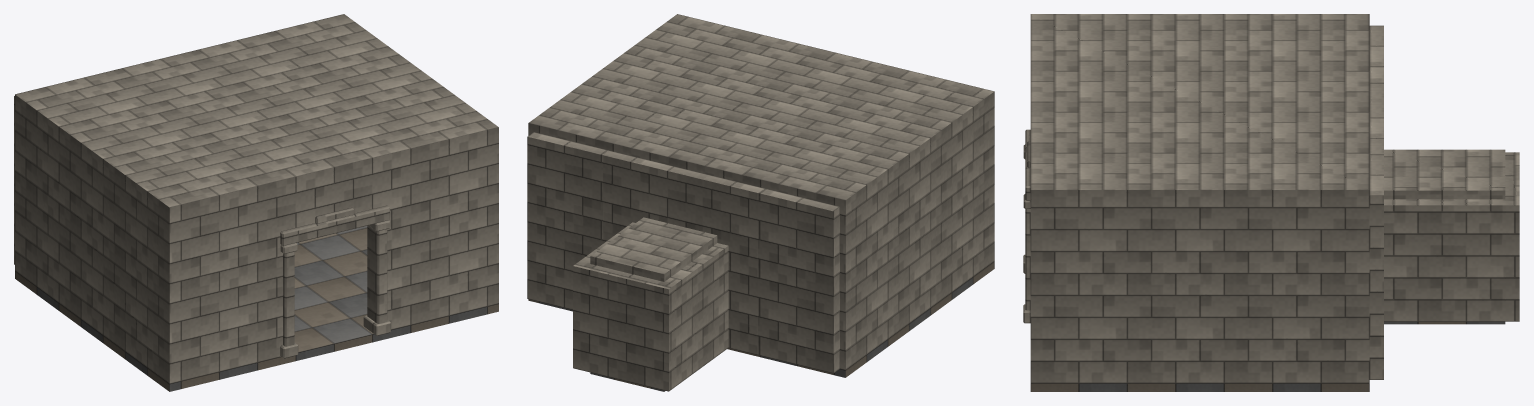
File: MOD_RoomChoise1.fbx
3 views of the same model, side by side, from view 1: azimuth 30°, elevation 25°; view 2: azimuth 150°, elevation 25°; view 3: azimuth 270°, elevation 25° (orthographic). The views are drawn at different scales.
Visible parts, largest first — view 1: Ceiling.004, Wall_Side.004, Wall_S.003, Wall_S.002, Floor.004, Portal_Frame.004, Portal_Head.004, Portal_Side_L.004, Wall_Side.005, Portal_Side_R.004; view 2: Ceiling.004, Wall_Side.004, Stub, Wall_N_L.001, Wall_N_R.001, Wall_N_Pier, Wall_N_Pier.001, Wall_N_Head, Floor.004; view 3: Ceiling.004, Wall_Side.005, Stub, Wall_N_R.001, Floor.004, Portal_Frame.004, Wall_N_L.001, Wall_N_Pier, Wall_N_Pier.001.
Part boxes in pixels (bbox=[...]): Ceiling.004: bbox=[15, 14, 498, 215]; Wall_Side.004: bbox=[15, 102, 180, 383]; Wall_S.003: bbox=[395, 138, 487, 328]; Wall_S.002: bbox=[181, 190, 272, 380]; Floor.004: bbox=[15, 226, 498, 391]; Portal_Frame.004: bbox=[280, 205, 390, 358]; Portal_Head.004: bbox=[292, 165, 376, 228]; Portal_Side_L.004: bbox=[273, 186, 292, 358]; Wall_Side.005: bbox=[487, 135, 498, 306]; Portal_Side_R.004: bbox=[376, 160, 395, 329]; Ceiling.004: bbox=[528, 14, 994, 207]; Wall_Side.004: bbox=[840, 99, 994, 370]; Stub: bbox=[573, 217, 728, 391]; Wall_N_L.001: bbox=[758, 188, 839, 373]; Wall_N_R.001: bbox=[527, 132, 608, 309]; Wall_N_Pier: bbox=[702, 175, 763, 354]; Wall_N_Pier.001: bbox=[603, 150, 664, 243]; Wall_N_Head: bbox=[658, 164, 708, 231]; Floor.004: bbox=[528, 261, 994, 377]; Ceiling.004: bbox=[1030, 14, 1369, 198]; Wall_Side.005: bbox=[1030, 199, 1369, 383]; Stub: bbox=[1384, 149, 1519, 324]; Wall_N_R.001: bbox=[1369, 153, 1383, 379]; Floor.004: bbox=[1030, 383, 1369, 391]; Portal_Frame.004: bbox=[1023, 129, 1030, 323]; Wall_N_L.001: bbox=[1369, 25, 1383, 67]; Wall_N_Pier: bbox=[1369, 67, 1383, 98]; Wall_N_Pier.001: bbox=[1369, 123, 1383, 153].
Bounding box in the file's own units: 860 × 460 × 1025.
